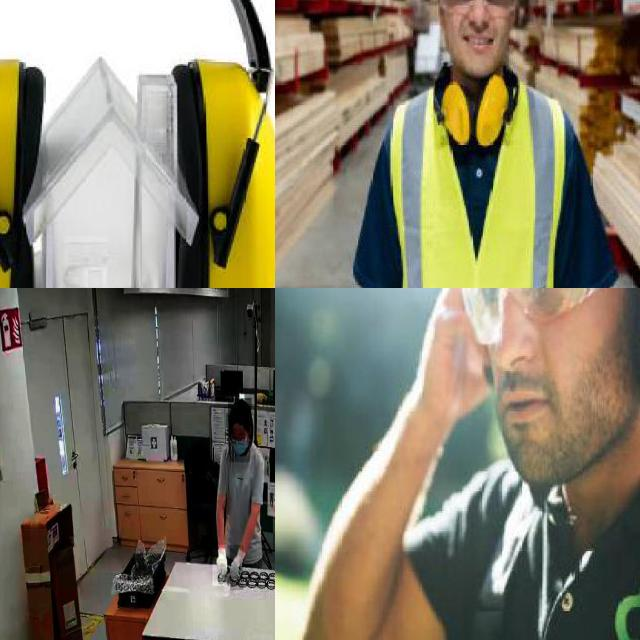Ear-protection: (0, 0, 275, 288), (417, 288, 640, 463), (426, 63, 526, 151)
face_mask: (230, 428, 250, 462)
glasses: (435, 288, 640, 354), (436, 0, 521, 19), (228, 432, 246, 450)
hand_glove: (212, 544, 228, 586), (230, 545, 244, 591)
head_nohelmet: (228, 398, 252, 422)
person: (297, 288, 640, 640), (335, 0, 632, 288), (214, 384, 275, 585)
vest: (383, 82, 566, 288)
